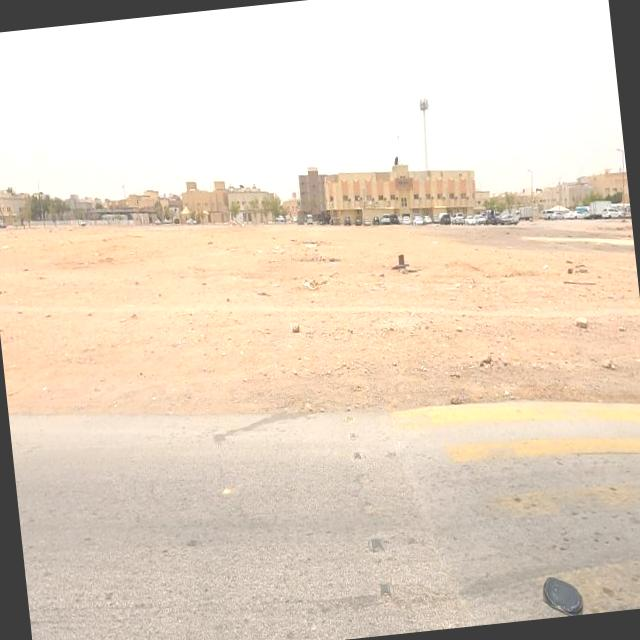debris: (281, 253, 344, 313), (272, 288, 318, 356), (286, 217, 330, 273)
